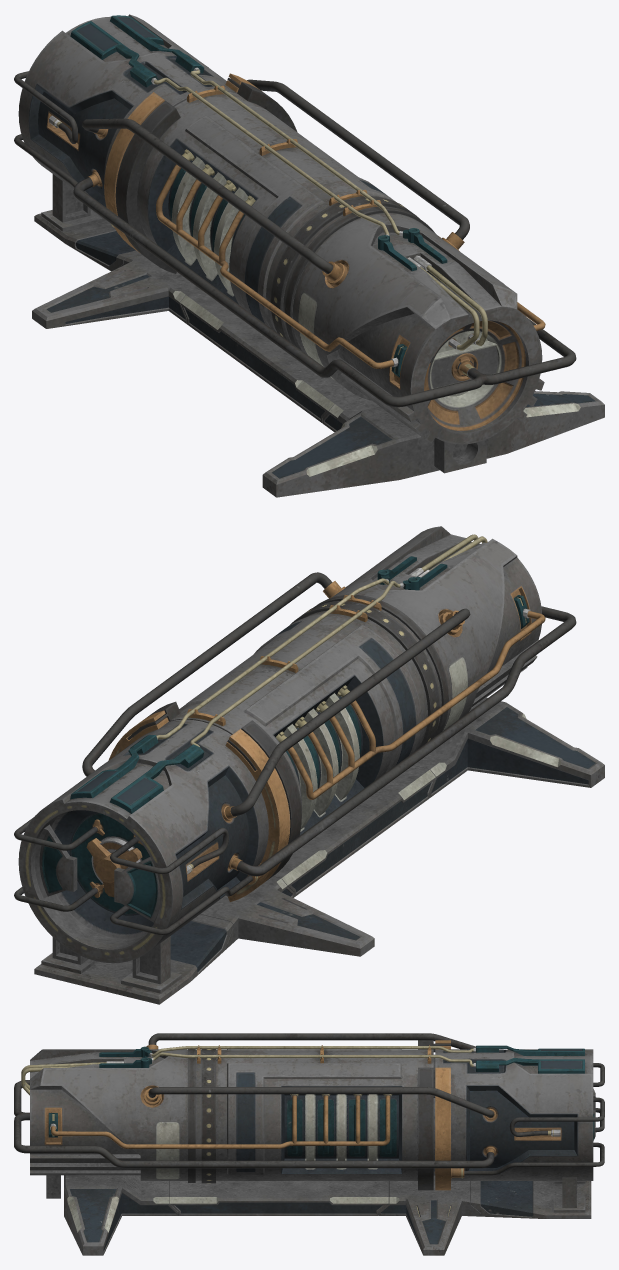
File: Cap_Tank_new.glb
3 renders of one model, top to bottom at view 1: azimuth 30°, elevation 25°; view 2: azimuth 150°, elevation 25°; view 3: azimuth 270°, elevation 25°, orthographic. The views are drawn at different scales.
Parts seen in each view (by area): view 1: device96; view 2: device96; view 3: device96.
Boxes of the visible parts, bbox=[...] form: device96: bbox=[14, 14, 604, 497]; device96: bbox=[14, 526, 604, 1004]; device96: bbox=[14, 1033, 604, 1255].
Bounding box in the file's own units: 8.49 × 4.88 × 17.88.
1 material, 1 textured.
